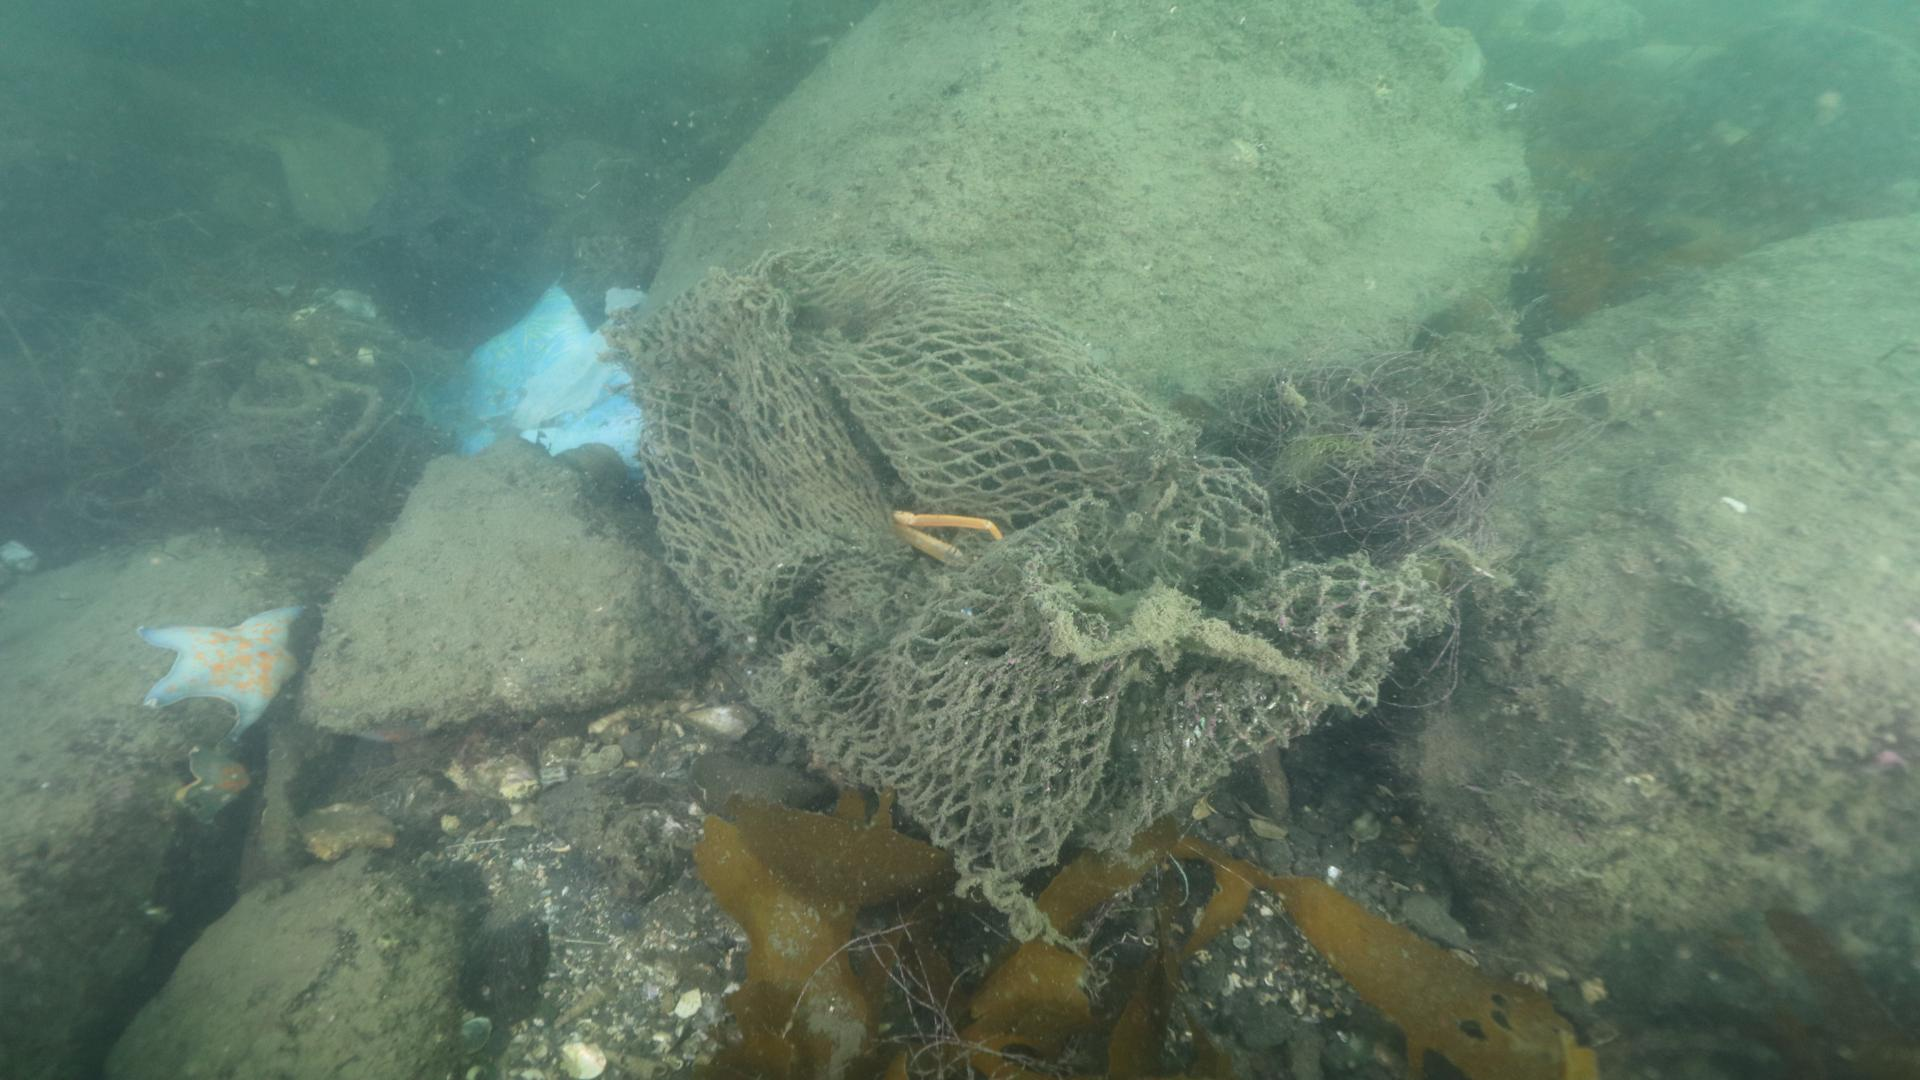fish net: (636, 245, 1424, 880)
